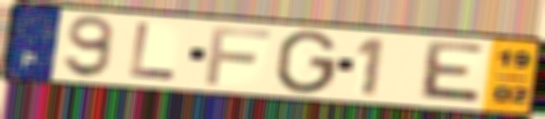1: (354, 36, 387, 97)
9: (61, 13, 118, 81)
E: (414, 39, 488, 107)
F: (203, 25, 275, 87)
G: (271, 28, 342, 97)
L: (126, 21, 180, 83)
